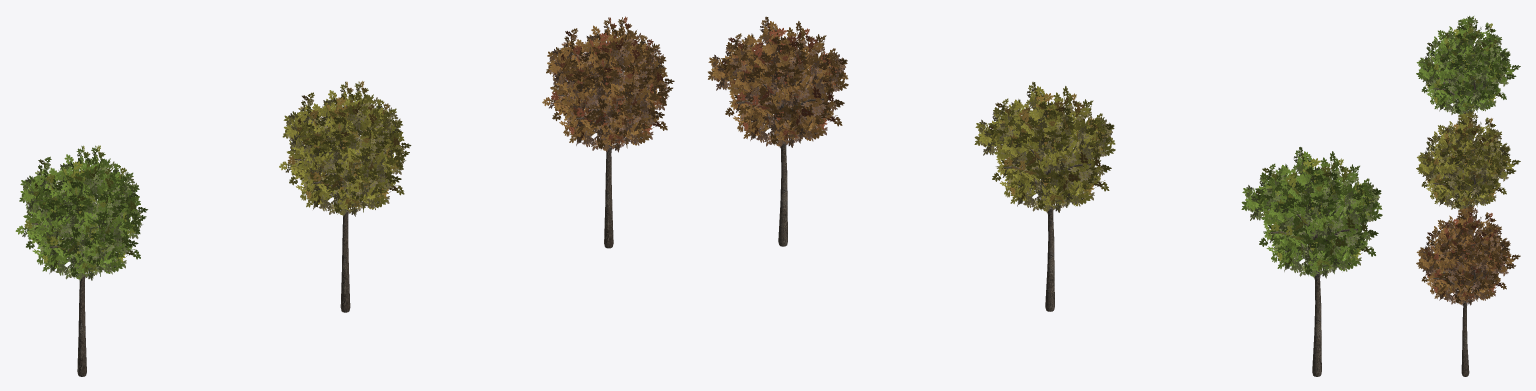
File: street_tree.glb
3 renders of one model, left to right at view 1: azimuth 30°, elevation 25°; view 2: azimuth 150°, elevation 25°; view 3: azimuth 270°, elevation 25°, orthographic. The views are drawn at different scales.
Visible parts, largest first — view 1: tak001_M_greenRed_0, tak_M_leaf_0, tak002_M_red_0, tak001_M_bark_0, tak002_M_bark_0, tak_M_bark_0; view 2: tak001_M_greenRed_0, tak_M_leaf_0, tak002_M_red_0, tak002_M_bark_0, tak_M_bark_0, tak001_M_bark_0; view 3: tak002_M_red_0, tak001_M_greenRed_0, tak_M_leaf_0, tak002_M_bark_0, tak001_M_bark_0, tak_M_bark_0.
Boxes of the visible parts, x1,y1,x2,y2 form: tak001_M_greenRed_0: (279,81,411,216); tak_M_leaf_0: (15,145,147,280); tak002_M_red_0: (542,16,674,152); tak001_M_bark_0: (294,112,385,312); tak002_M_bark_0: (558,48,627,248); tak_M_bark_0: (32,176,126,376); tak001_M_greenRed_0: (974,82,1115,212); tak_M_leaf_0: (1241,147,1382,278); tak002_M_red_0: (708,16,848,147); tak002_M_bark_0: (735,70,824,246); tak_M_bark_0: (1269,200,1357,376); tak001_M_bark_0: (1002,135,1090,311); tak002_M_red_0: (1416,205,1520,305); tak001_M_greenRed_0: (1416,110,1520,209); tak_M_leaf_0: (1416,16,1520,114); tak002_M_bark_0: (1432,229,1507,376); tak001_M_bark_0: (1432,134,1506,215); tak_M_bark_0: (1432,39,1506,120).
Size of the model in its own units: 0.5096 by 0.1623 by 0.0988.
4 materials, 4 textured.
